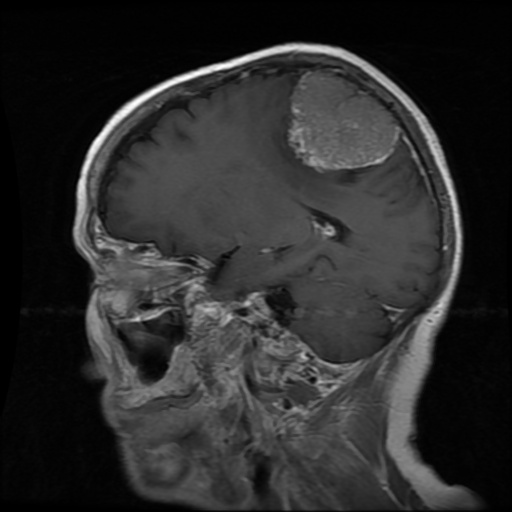meningioma: (287, 70, 399, 171)
